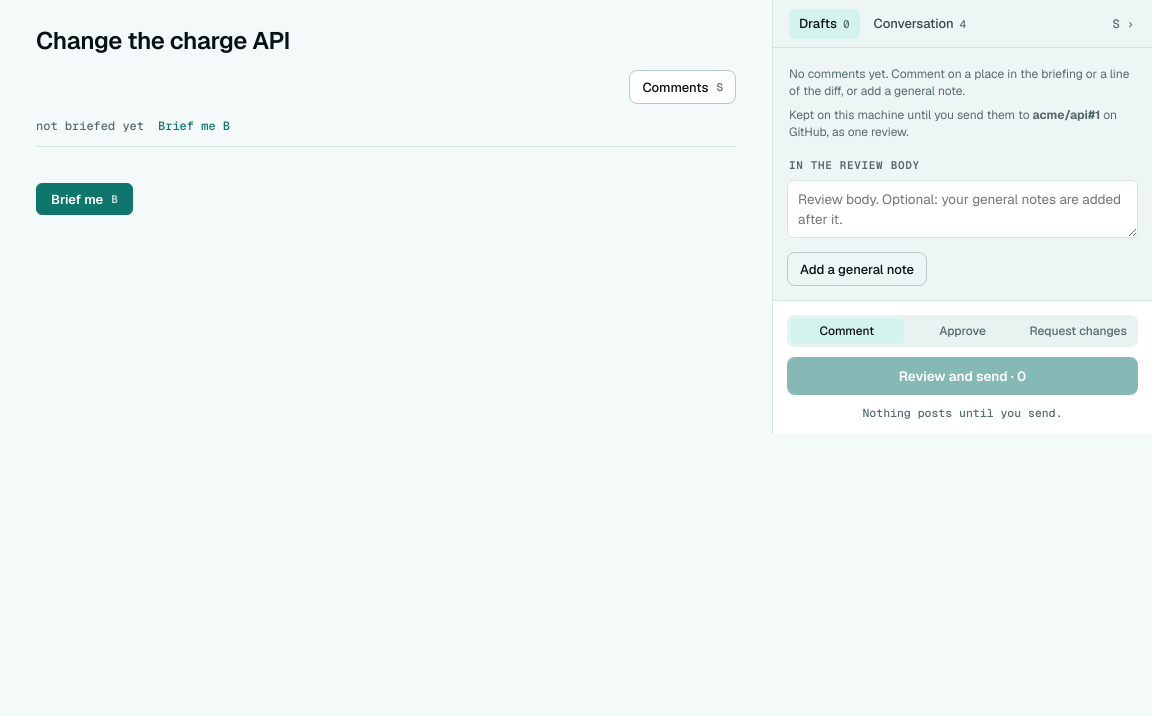
Test: the conversation in the Comments drawer › lists the PR's threads, yours first, open ones before the folded resolved ones
The width and height of the screenshot is (1152, 716).
Click the tab "Conversation 4". click: (920, 24)
box: [864, 8, 976, 38]
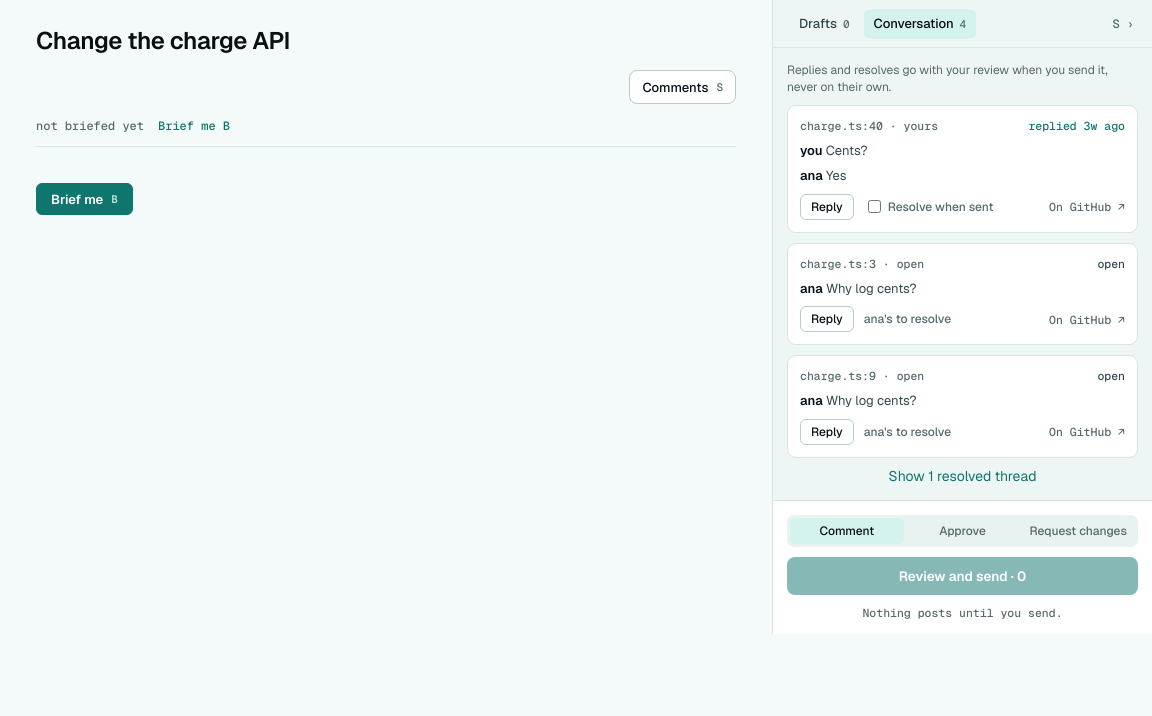
Result: the list item that starts with "charge.ts:40" is shown at [787, 105, 1138, 233]
Result: the text "you" is shown at [800, 142, 822, 159]
Result: the list item "you Cents?" is shown at [800, 142, 867, 159]
Click the button "Show 1 resolved thread". click: (962, 476)
box: [787, 466, 1138, 486]
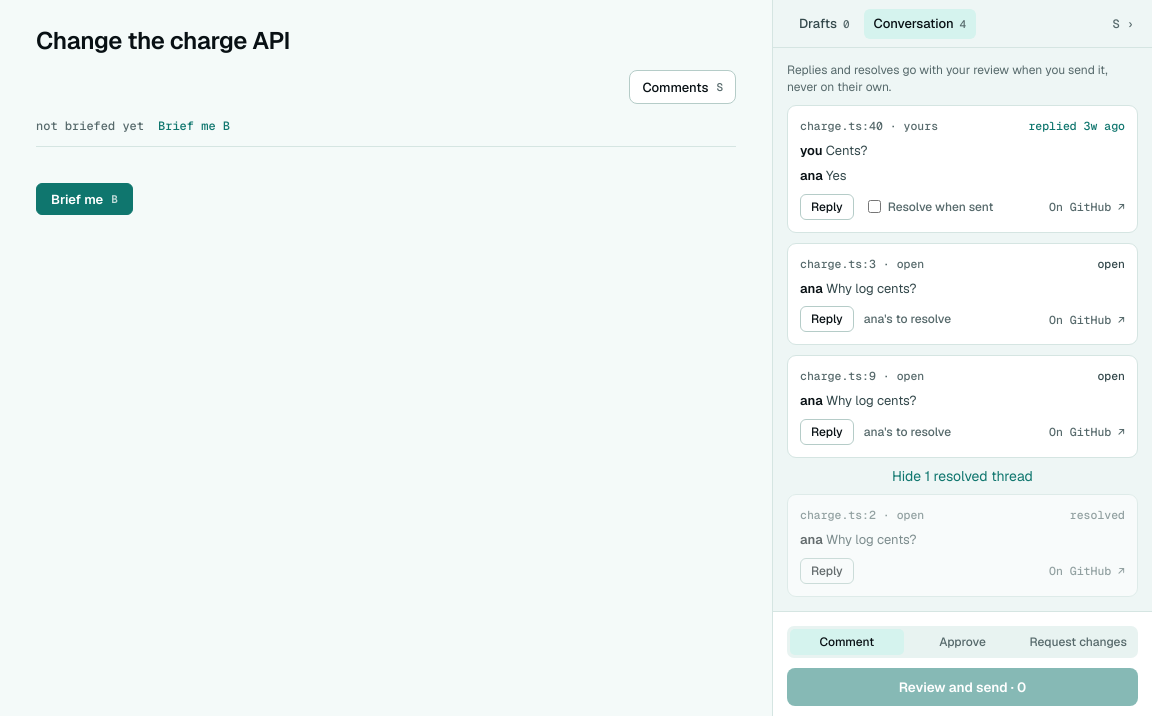
Result: the text "ana's to resolve" is shown 2 times at [860, 306, 955, 332]; [860, 419, 955, 445]
Result: the text with class "tcard-state" reads "resolved" at [1070, 507, 1125, 522]
